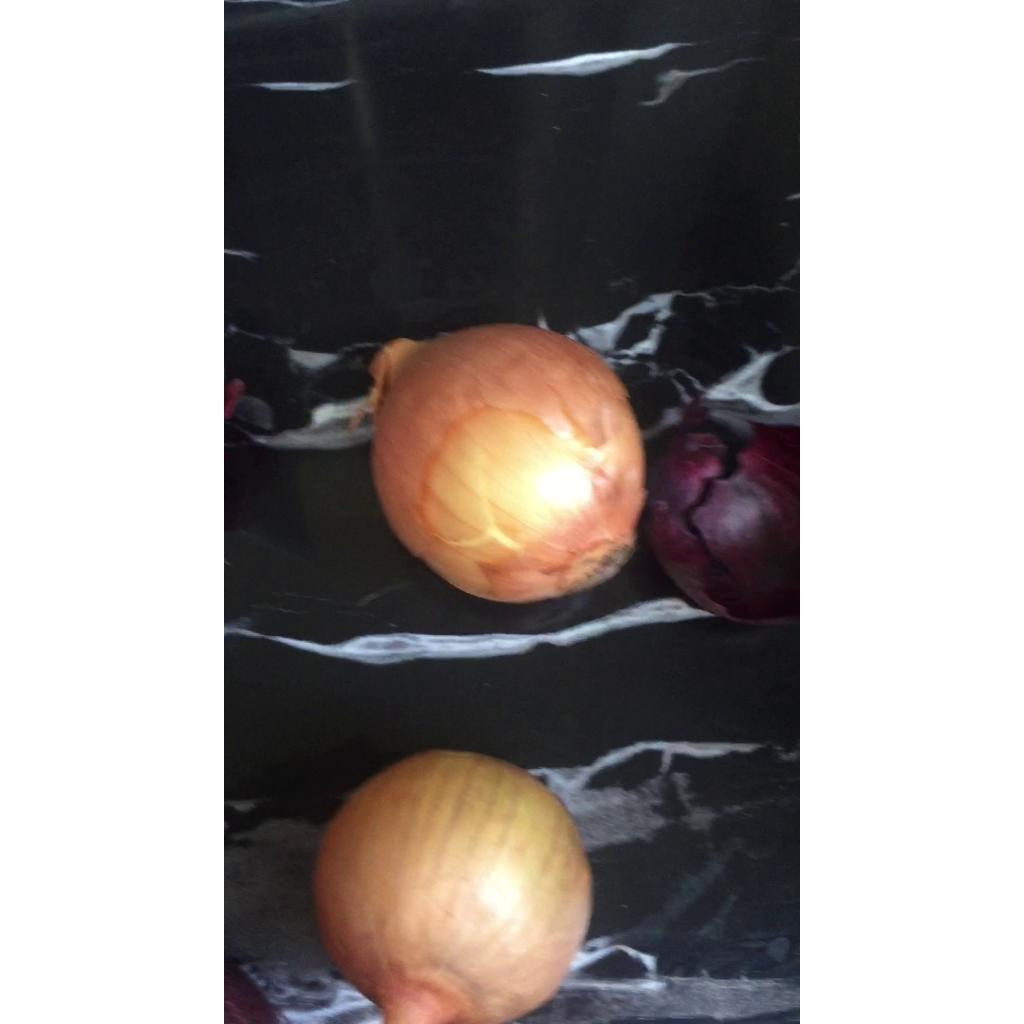Onion: (370, 324, 644, 603), (313, 751, 591, 1024)
